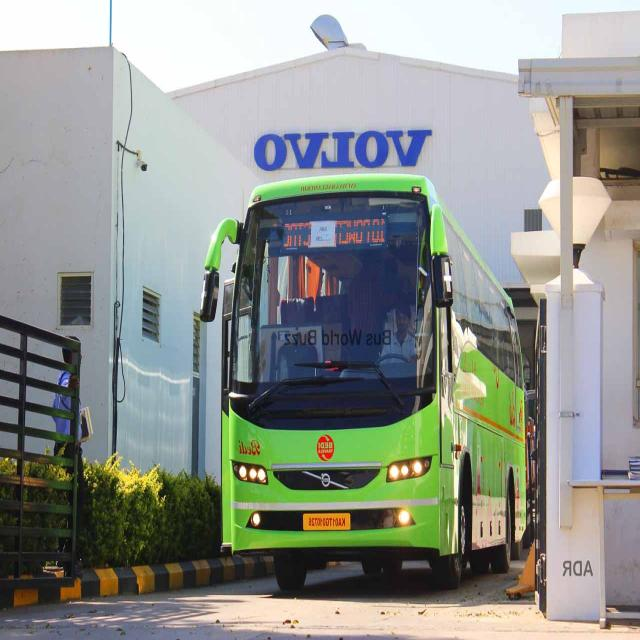bus: (201, 174, 525, 590)
